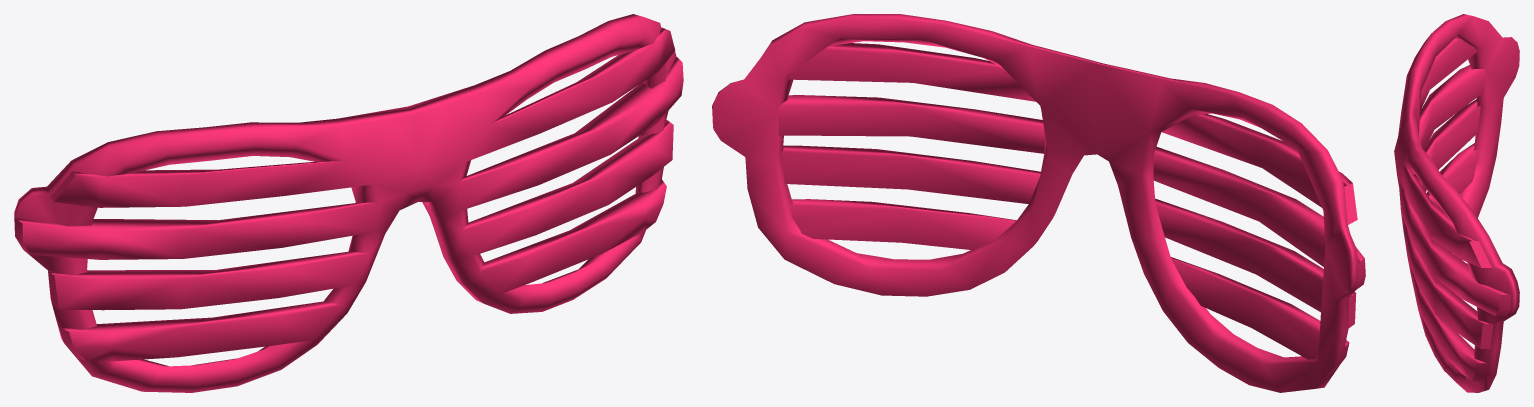
Rendered from AccessoryGlassBlind3.glb.
3 renders of one model, left to right at view 1: azimuth 30°, elevation 25°; view 2: azimuth 150°, elevation 25°; view 3: azimuth 270°, elevation 25°, orthographic. The views are drawn at different scales.
Parts seen in each view (by area): view 1: Accessory__mAccessory; view 2: Accessory__mAccessory; view 3: Accessory__mAccessory.
Part boxes in pixels (x1,y1,x2,y2): Accessory__mAccessory: [14, 14, 683, 392]; Accessory__mAccessory: [712, 14, 1365, 392]; Accessory__mAccessory: [1394, 14, 1519, 392].
Size of the model in its own units: 6.64 by 2.6 by 1.44.
Materials: 1 (1 with a texture image).
